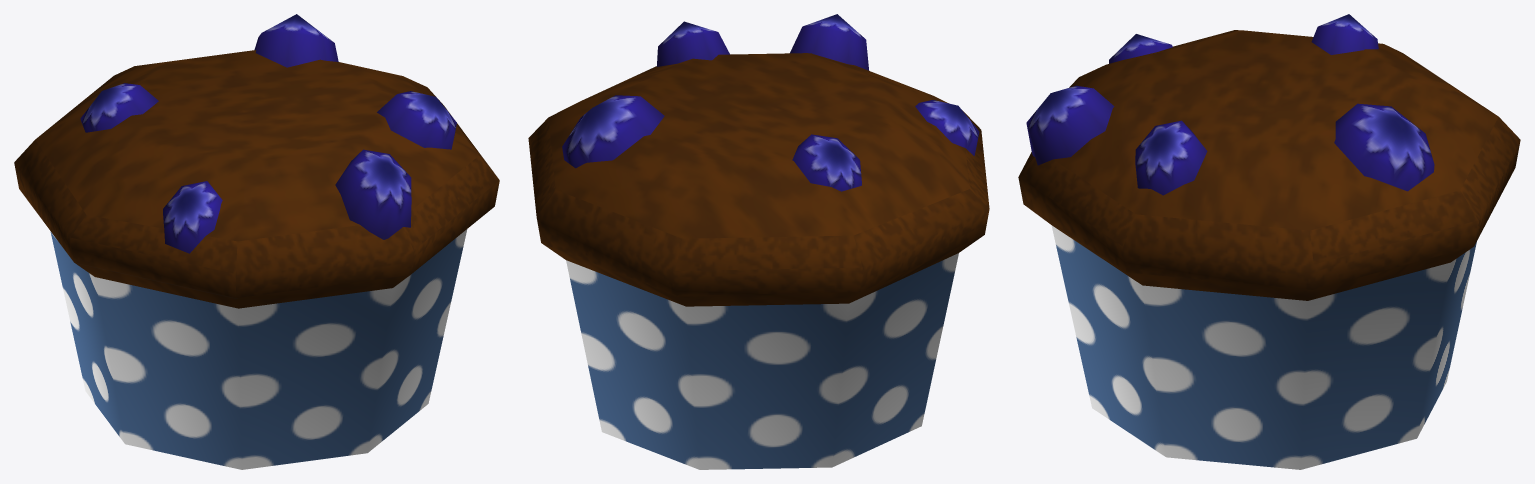
File: Muffin_A_01.FBX
3 views of the same model, side by side, from view 1: azimuth 30°, elevation 25°; view 2: azimuth 150°, elevation 25°; view 3: azimuth 270°, elevation 25° (orthographic). The views are drawn at different scales.
Visible parts, largest first — view 1: Muffin; view 2: Muffin; view 3: Muffin.
Boxes of the visible parts, x1=… form: Muffin: x1=14, y1=14, x2=499, y2=469; Muffin: x1=528, y1=14, x2=989, y2=469; Muffin: x1=1018, y1=14, x2=1520, y2=469.
Size of the model in its own units: 36.61 by 26.52 by 36.61.
